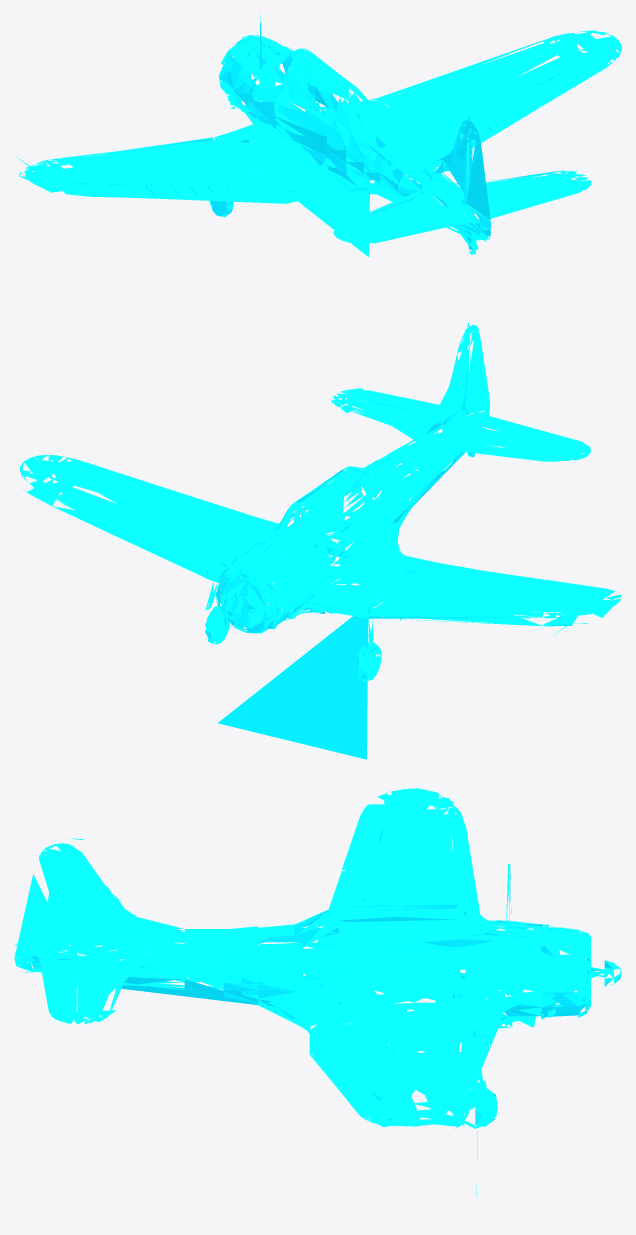
File: PAAD108.glb
3 renders of one model, top to bottom at view 1: azimuth 30°, elevation 25°; view 2: azimuth 150°, elevation 25°; view 3: azimuth 270°, elevation 25°, orthographic. The views are drawn at different scales.
Parts seen in each view (by area): view 1: misc; view 2: misc; view 3: misc.
Boxes of the visible parts, box(x1,y1,x2,y2) form: misc: box(16, 14, 621, 256); misc: box(20, 323, 621, 759); misc: box(14, 788, 621, 1196).
Size of the model in its own units: 0.8405 by 0.3949 by 0.6399.
